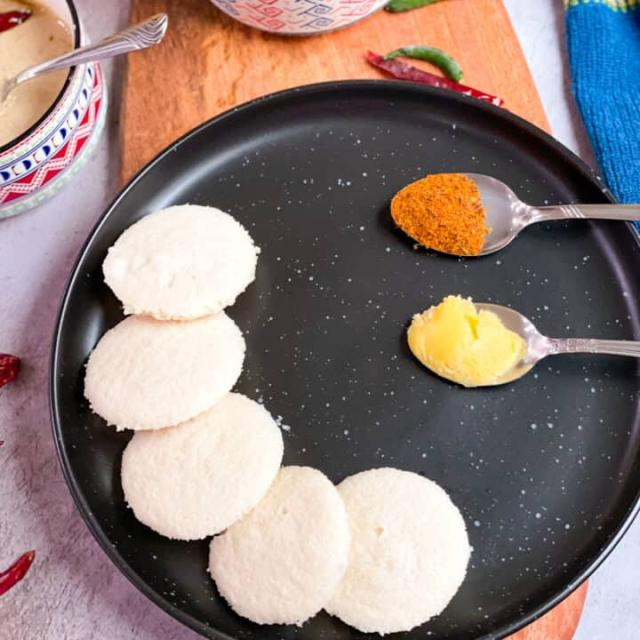idli: (116, 388, 284, 548), (310, 467, 472, 632), (206, 463, 348, 629), (75, 300, 253, 426), (100, 200, 262, 324)
